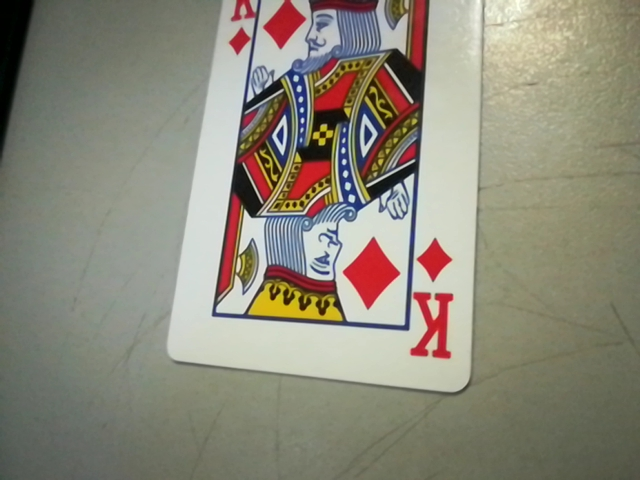fk k: (406, 233, 465, 366)
